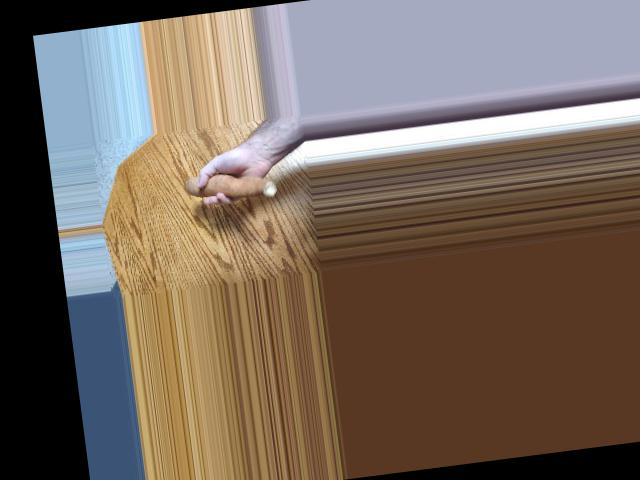sweet_potato: (175, 161, 279, 205)
